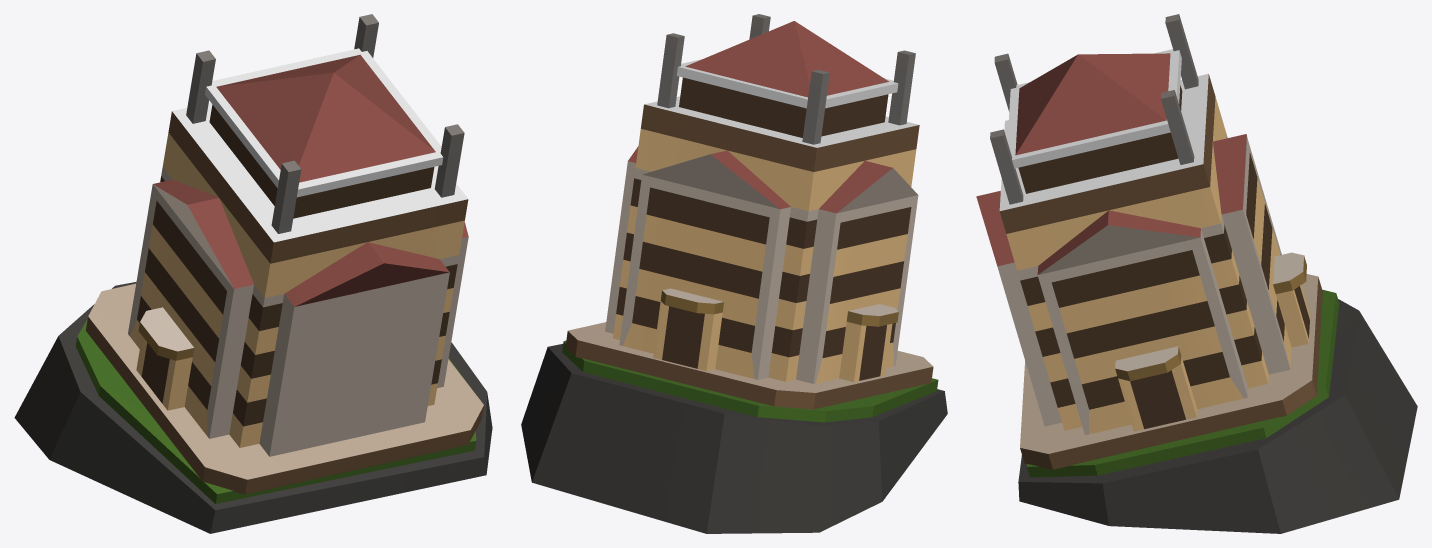
The model's file is city_lv07_B.fbx.
3 views of the same model, side by side, from view 1: azimuth 30°, elevation 25°; view 2: azimuth 150°, elevation 25°; view 3: azimuth 270°, elevation 25° (orthographic). The views are drawn at different scales.
Visible parts, largest first — view 1: city_lv07_B; view 2: city_lv07_B; view 3: city_lv07_B.
Boxes of the visible parts, x1,y1,x2,y2 form: city_lv07_B: (14,14,492,533); city_lv07_B: (521,14,947,533); city_lv07_B: (976,14,1417,533).
Size of the model in its own units: 3614 by 3757 by 3795.
